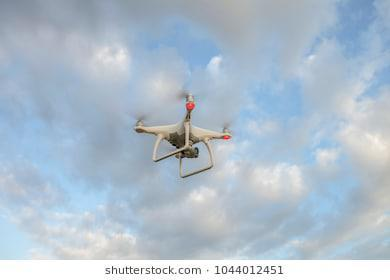drone: (131, 89, 234, 183)
